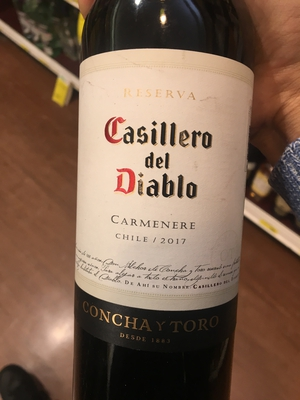casillero del diablo carmenere: (70, 13, 258, 400)
